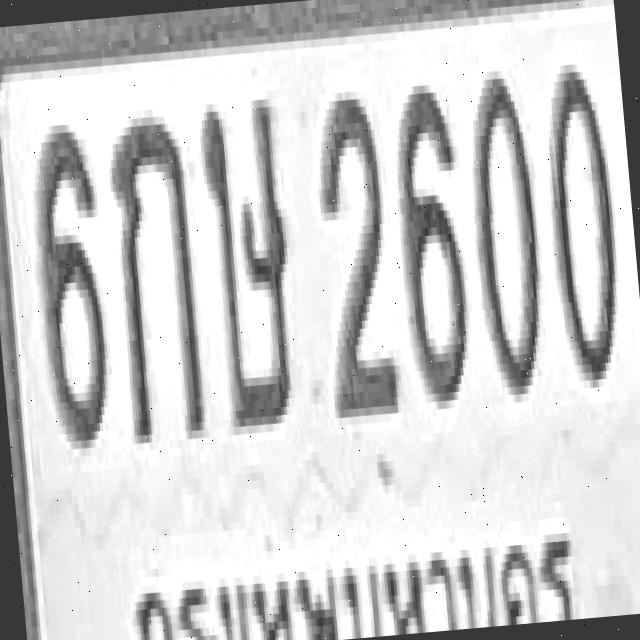0: (538, 58, 626, 386), (462, 69, 550, 396)
10GorGai: (104, 106, 208, 443)
2: (309, 90, 400, 418)
48SorRueSi: (196, 90, 302, 428)
6: (27, 118, 115, 446), (389, 75, 474, 403)
